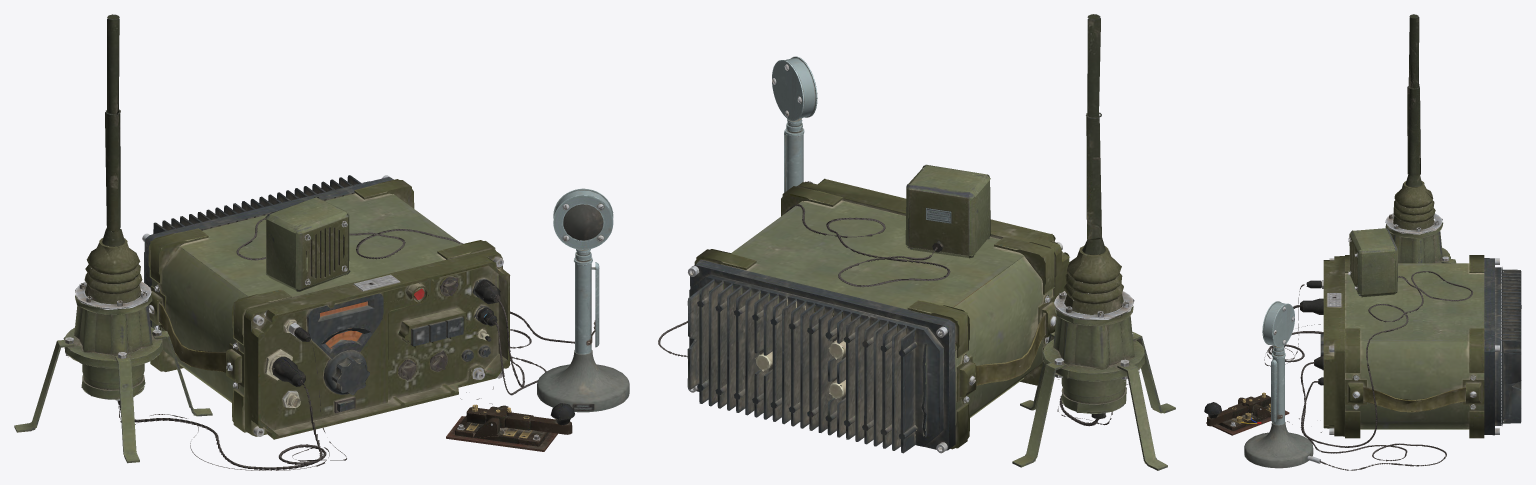
File: distance.fbx
3 views of the same model, side by side, from view 1: azimuth 30°, elevation 25°; view 2: azimuth 150°, elevation 25°; view 3: azimuth 270°, elevation 25° (orthographic). The views are drawn at different scales.
Visible parts, largest first — view 1: vintage_radio_transceiver, vintage_radio_transceiver_antenna, vintage_radio_transceiver_microphone, vintage_radio_transceiver_speaker, vintage_radio_transceiver_cables, vintage_radio_transceiver_morse_key_base, vintage_radio_transceiver_morse_key_arm, vintage_radio_transceiver_dial, vintage_radio_transceiver_antenna_plug_a; view 2: vintage_radio_transceiver, vintage_radio_transceiver_antenna, vintage_radio_transceiver_speaker, vintage_radio_transceiver_microphone, vintage_radio_transceiver_cables; view 3: vintage_radio_transceiver, vintage_radio_transceiver_antenna, vintage_radio_transceiver_microphone, vintage_radio_transceiver_speaker, vintage_radio_transceiver_cables, vintage_radio_transceiver_morse_key_arm, vintage_radio_transceiver_morse_key_base.
Part boxes in pixels (bbox=[...]): vintage_radio_transceiver: bbox=[142, 175, 510, 439]; vintage_radio_transceiver_antenna: bbox=[14, 14, 212, 463]; vintage_radio_transceiver_microphone: bbox=[537, 188, 629, 412]; vintage_radio_transceiver_speaker: bbox=[265, 197, 350, 291]; vintage_radio_transceiver_cables: bbox=[118, 218, 574, 470]; vintage_radio_transceiver_morse_key_base: bbox=[446, 405, 557, 451]; vintage_radio_transceiver_morse_key_arm: bbox=[466, 403, 574, 434]; vintage_radio_transceiver_dial: bbox=[323, 328, 369, 395]; vintage_radio_transceiver_antenna_plug_a: bbox=[272, 356, 305, 386]; vintage_radio_transceiver: bbox=[687, 178, 1069, 453]; vintage_radio_transceiver_antenna: bbox=[1012, 14, 1175, 470]; vintage_radio_transceiver_speaker: bbox=[905, 164, 990, 258]; vintage_radio_transceiver_microphone: bbox=[772, 56, 817, 192]; vintage_radio_transceiver_cables: bbox=[658, 204, 1139, 426]; vintage_radio_transceiver: bbox=[1323, 255, 1521, 438]; vintage_radio_transceiver_antenna: bbox=[1385, 14, 1456, 263]; vintage_radio_transceiver_microphone: bbox=[1244, 301, 1320, 468]; vintage_radio_transceiver_speaker: bbox=[1348, 228, 1398, 297]; vintage_radio_transceiver_cables: bbox=[1264, 271, 1472, 470]; vintage_radio_transceiver_morse_key_arm: bbox=[1204, 392, 1270, 426]; vintage_radio_transceiver_morse_key_base: bbox=[1206, 397, 1289, 435].
Bounding box in the file's own units: 57.41 × 43.47 × 41.36.
